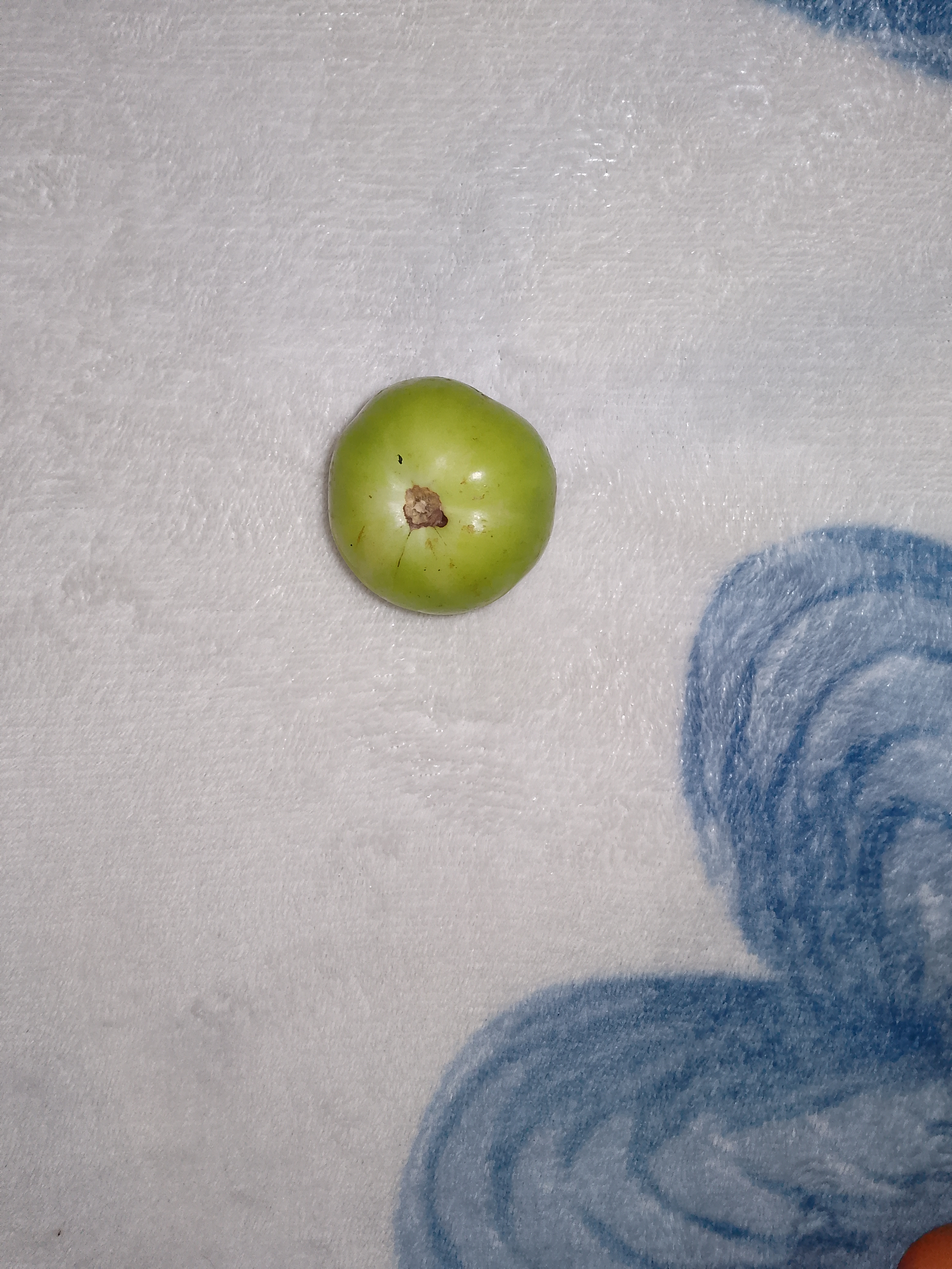Unripe: (270, 345, 605, 664)
